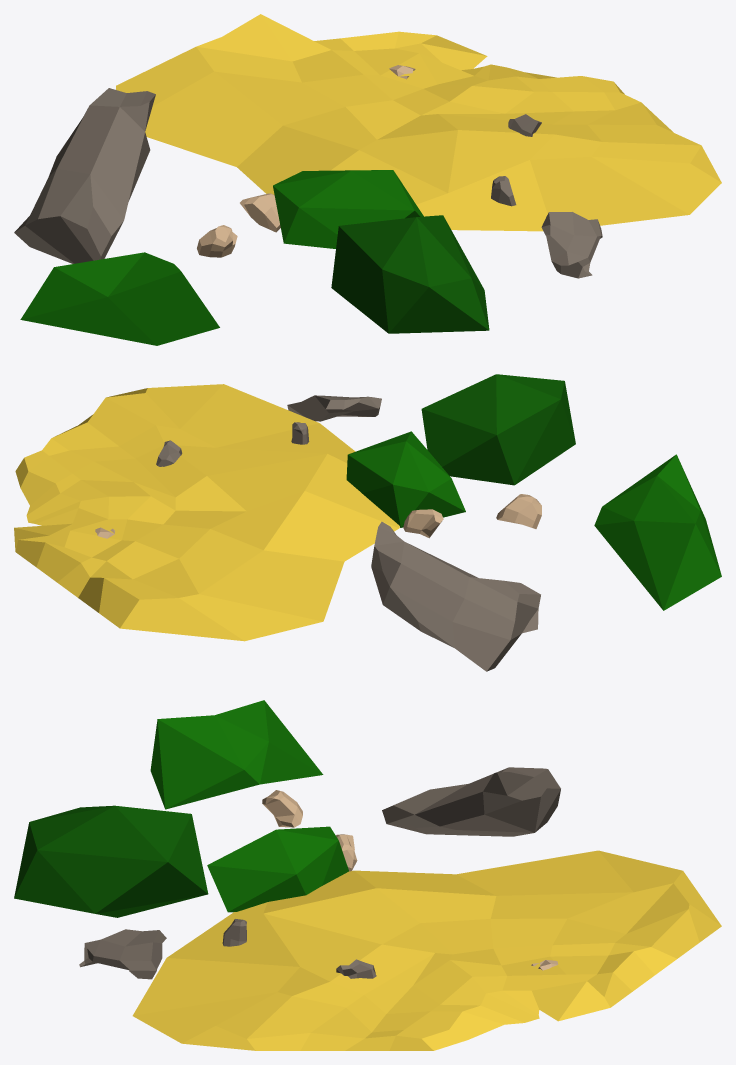
The model's file is street4_01_3.fbx.
3 renders of one model, top to bottom at view 1: azimuth 30°, elevation 25°; view 2: azimuth 150°, elevation 25°; view 3: azimuth 270°, elevation 25°, orthographic. The views are drawn at different scales.
Visible parts, largest first — view 1: sandway01x03.002, bush, stones.012, bush.002, bush.001, stones.011, stones.034, stones.008, stones.009; view 2: sandway01x03.002, bush, stones.012, bush.002, bush.001, stones.011, stones.008, stones.034; view 3: sandway01x03.002, bush, bush.002, stones.012, bush.001, stones.011, stones.008.
Boxes of the visible parts, box(x1,y1,x2,y2) form: sandway01x03.002: box(116, 14, 721, 231); bush: box(331, 215, 489, 333); stones.012: box(14, 88, 155, 263); bush.002: box(20, 252, 219, 345); bush.001: box(273, 170, 423, 248); stones.011: box(541, 212, 602, 278); stones.034: box(240, 193, 280, 232); stones.008: box(197, 225, 237, 257); stones.009: box(491, 176, 516, 206); sandway01x03.002: box(14, 384, 399, 641); bush: box(421, 374, 575, 485); stones.012: box(371, 521, 540, 671); bush.002: box(594, 454, 721, 610); bush.001: box(346, 431, 465, 527); stones.011: box(287, 395, 381, 421); stones.008: box(496, 494, 541, 528); stones.034: box(403, 509, 443, 538); sandway01x03.002: box(132, 850, 721, 1050); bush: box(14, 805, 208, 917); bush.002: box(150, 700, 323, 809); stones.012: box(382, 767, 560, 836); bush.001: box(207, 826, 348, 912); stones.011: box(79, 929, 166, 979); stones.008: box(262, 790, 302, 827).
Size of the model in its own units: 97.15 by 17.25 by 88.75.
